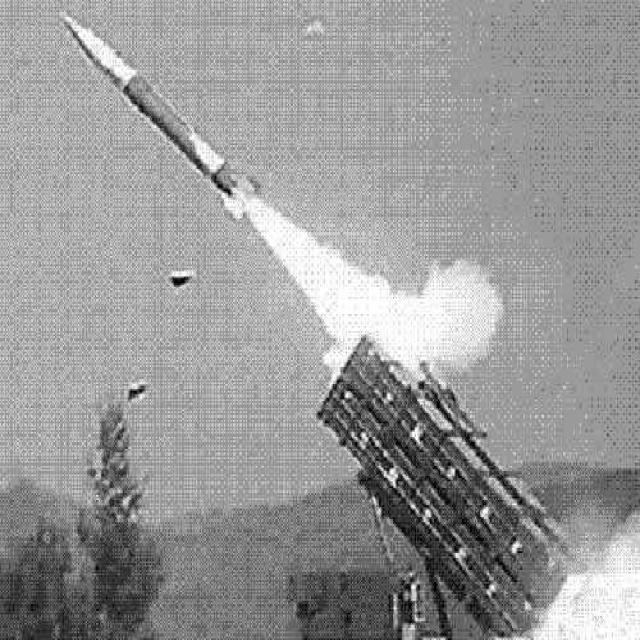missile: (61, 16, 258, 206)
